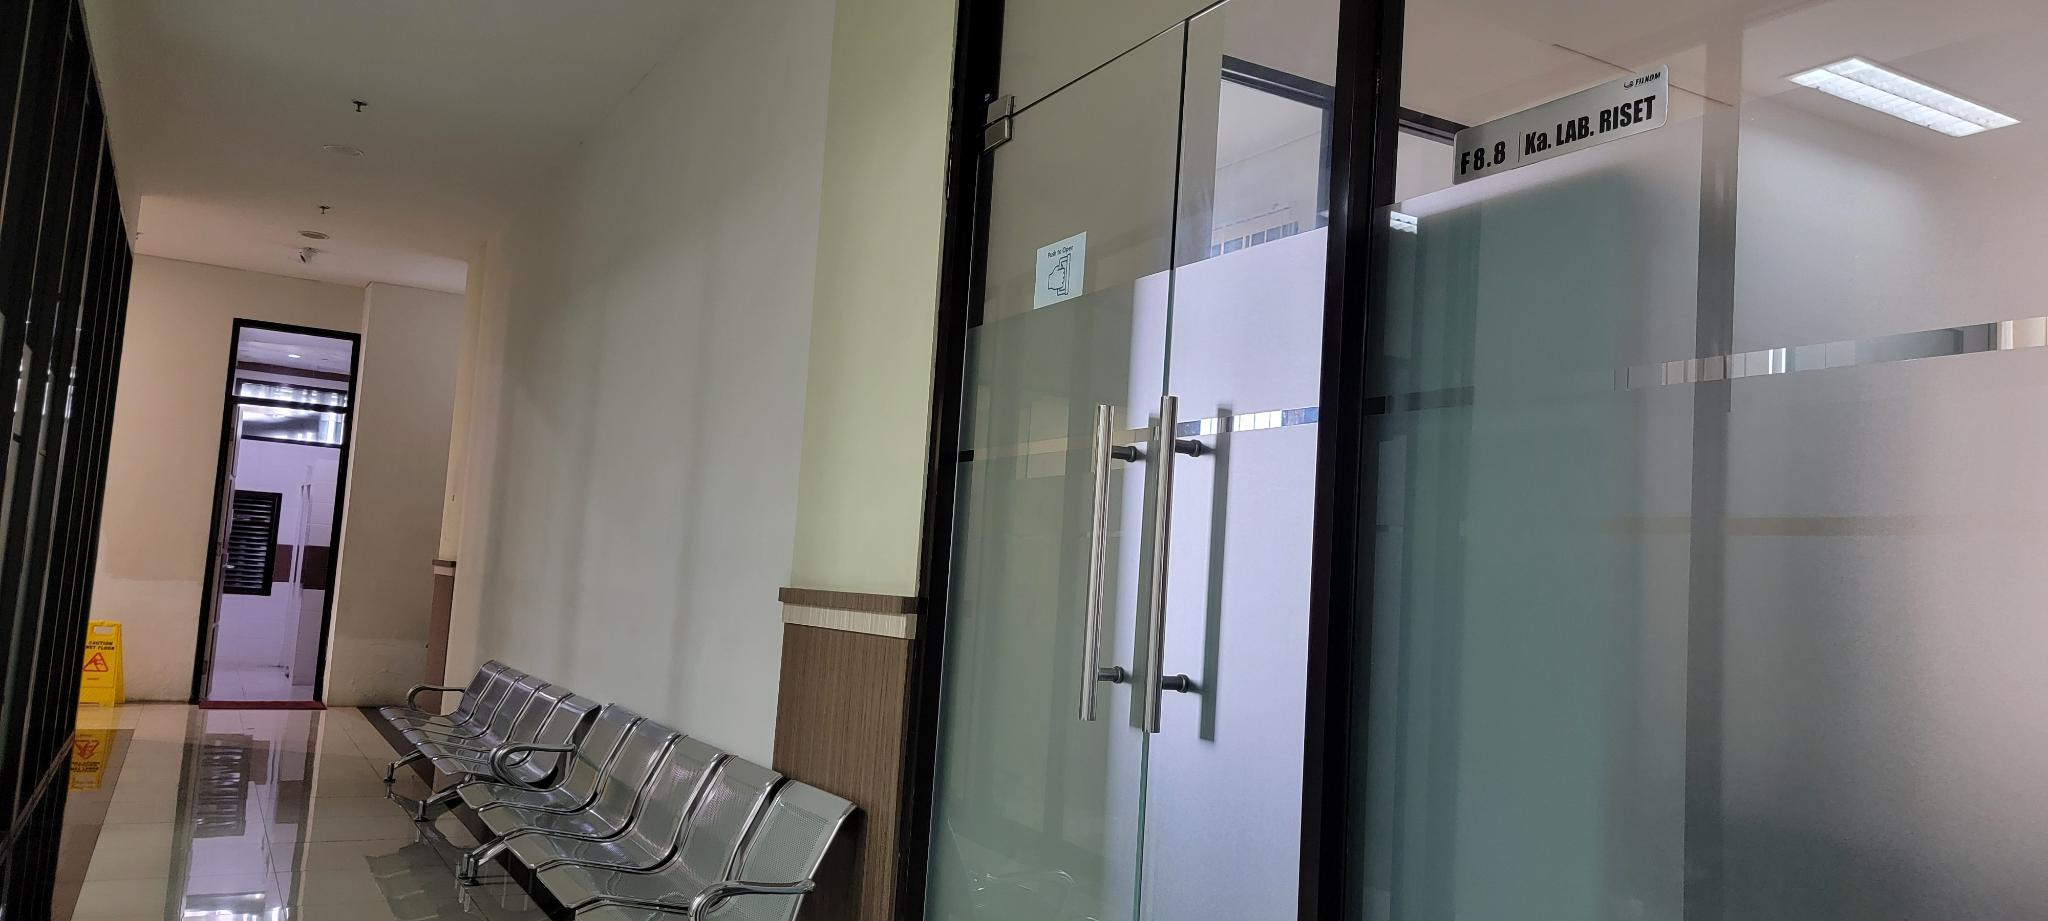plate: (1448, 63, 1672, 189)
